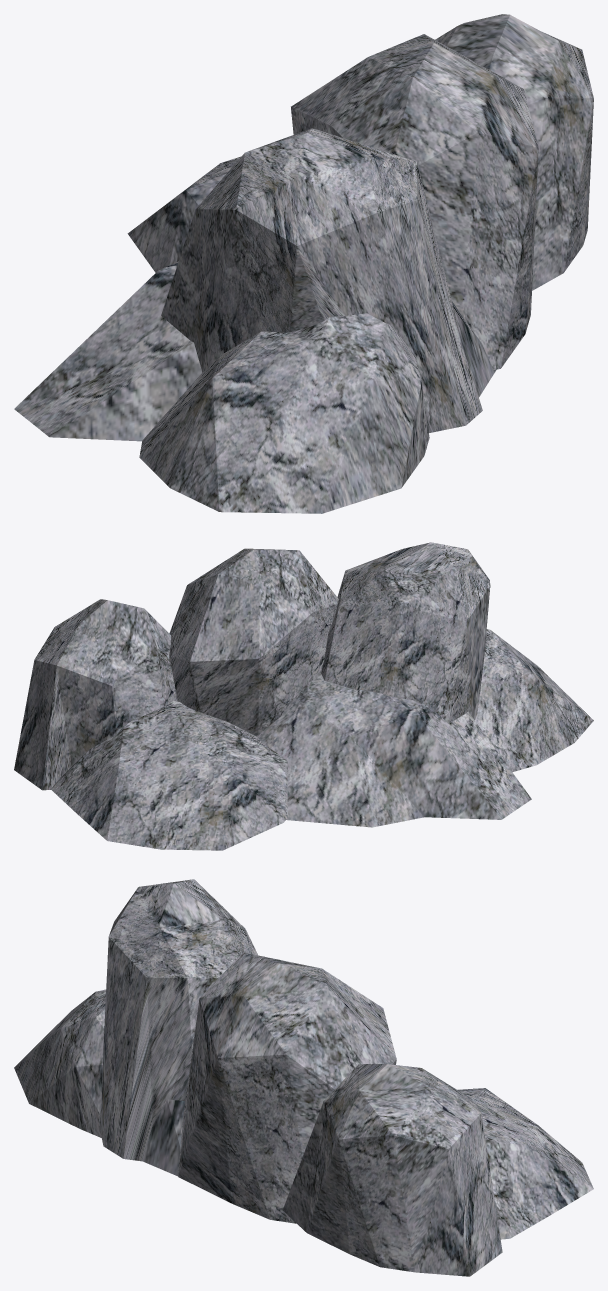
File: des_rockgp2_03.obj
The picture shows the model from 3 angles, top to bottom: view 1: azimuth 30°, elevation 25°; view 2: azimuth 150°, elevation 25°; view 3: azimuth 270°, elevation 25°; orthographic projection. The views are drawn at different scales.
Parts seen in each view (by area): view 1: des_rockgp2_03; view 2: des_rockgp2_03; view 3: des_rockgp2_03.
Part boxes in pixels (bbox=[...]): des_rockgp2_03: bbox=[14, 14, 593, 513]; des_rockgp2_03: bbox=[14, 542, 593, 850]; des_rockgp2_03: bbox=[14, 879, 593, 1276].
Bounding box in the file's own units: 50.87 × 23.44 × 52.64.
Materials: 2 (2 with a texture image).
